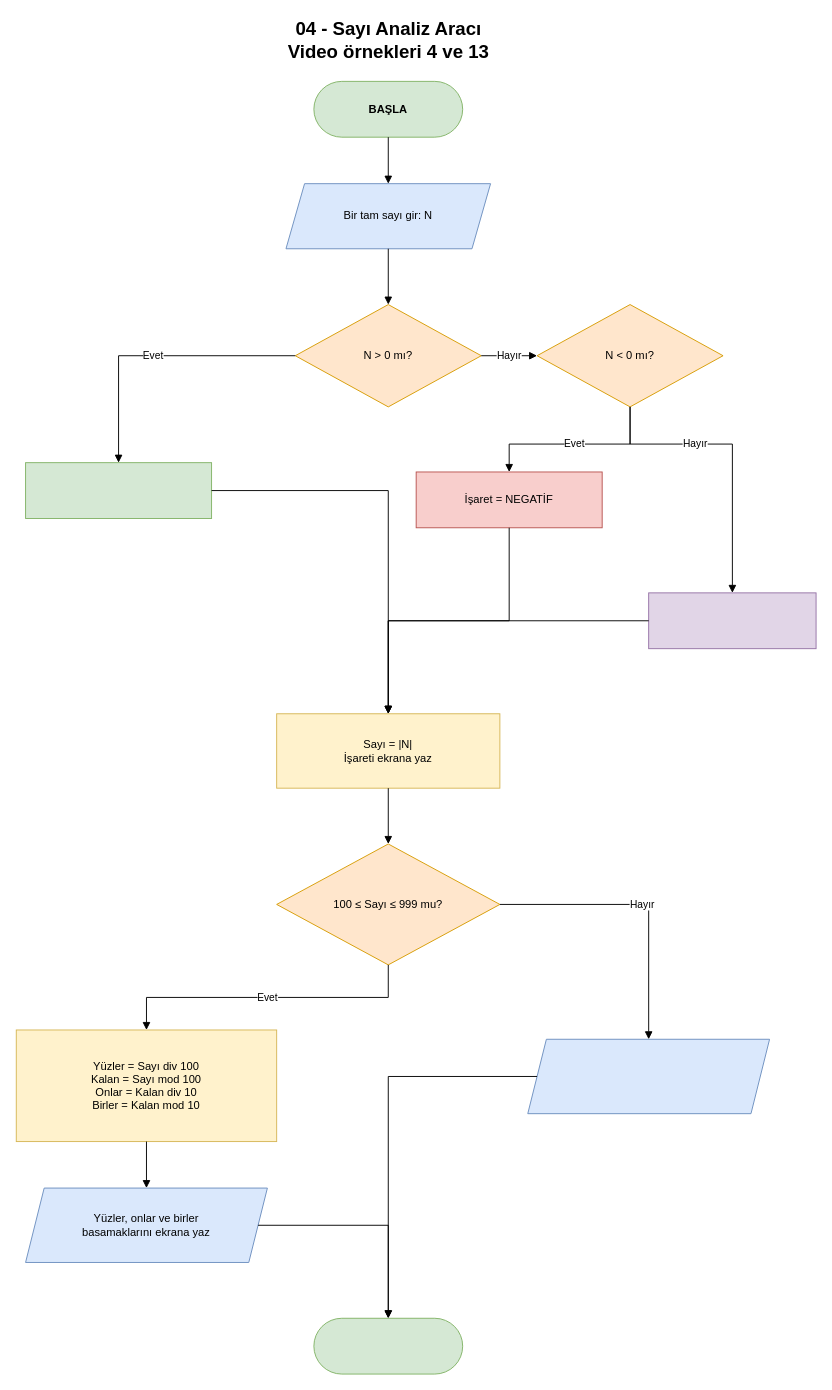
Some shapes in this 832 by 1390 pixel diagram are drawn without their labels. The shapes that lost their labels are listed below. From the top down, each one's box as (x1, y1, x2, y2) in pixels, then its label:
(25, 462, 212, 518): İşaret = POZİTİF
(648, 592, 816, 649): İşaret = SIFIR
(527, 1038, 770, 1114): “Sayı üç basamaklı değil.” mesajını ekrana yaz
(313, 1317, 463, 1374): BİTİR
